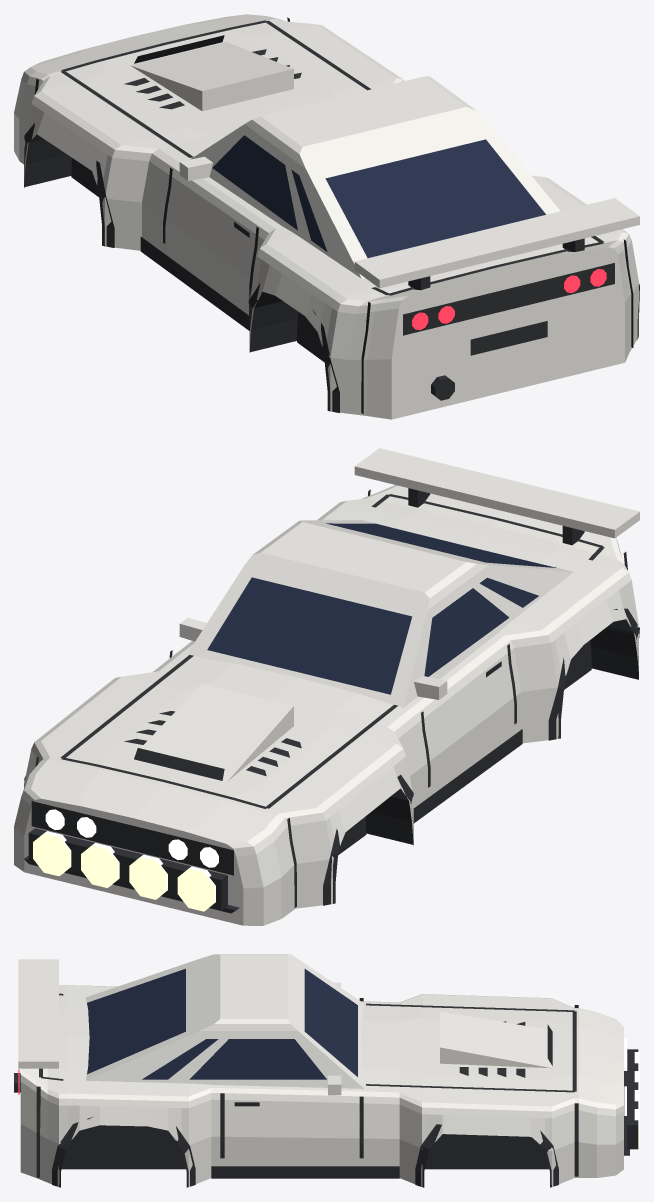
The model's file is Ryu.glb.
3 views of the same model, one above another, from view 1: azimuth 30°, elevation 25°; view 2: azimuth 150°, elevation 25°; view 3: azimuth 270°, elevation 25° (orthographic). The views are drawn at different scales.
Parts seen in each view (by area): view 1: BumperRear, Hood, RearWindow, Roof, Fender_FL, Pillars, Opt_Wing_Rally_WingBlade, Door_FL, Fender_RL, Opt_Hood_Scoop_HoodScoop, BumperFront, Underbody (+16 smaller); view 2: Hood, BumperFront, Windshield, Pillars, Roof, Fender_FL, Opt_Wing_Rally_WingBlade, Door_FL, Fender_RL, Opt_Hood_Scoop_HoodScoop, Cowl, Trunk (+17 smaller); view 3: Hood, Fender_FR, Door_FR, Pillars, Fender_RR, WheelWell, Roof, BumperFront, RearWindow, Opt_Hood_Scoop_HoodScoop, Cowl, Opt_Wing_Rally_WingBlade (+14 smaller).
Part boxes in pixels (left/top/right/bottom): BumperRear: left=367, top=243, right=629, bottom=419; Hood: left=41, top=19, right=396, bottom=162; RearWindow: left=325, top=139, right=545, bottom=257; Roof: left=245, top=76, right=488, bottom=168; Fender_FL: left=24, top=74, right=179, bottom=253; Pillars: left=190, top=124, right=560, bottom=278; Opt_Wing_Rally_WingBlade: left=354, top=198, right=639, bottom=288; Door_FL: left=164, top=165, right=269, bottom=315; Fender_RL: left=250, top=225, right=383, bottom=415; Opt_Hood_Scoop_HoodScoop: left=130, top=42, right=293, bottom=111; BumperFront: left=14, top=14, right=280, bottom=164; Underbody: left=24, top=134, right=298, bottom=352; Hood: left=41, top=653, right=408, bottom=815; BumperFront: left=14, top=760, right=292, bottom=925; Windshield: left=207, top=577, right=412, bottom=694; Pillars: left=187, top=520, right=573, bottom=707; Roof: left=245, top=520, right=488, bottom=609; Fender_FL: left=276, top=709, right=426, bottom=910; Opt_Wing_Rally_WingBlade: left=354, top=448, right=639, bottom=538; Door_FL: left=410, top=640, right=515, bottom=798; Fender_RL: left=499, top=547, right=638, bottom=743; Opt_Hood_Scoop_HoodScoop: left=130, top=684, right=293, bottom=782; Cowl: left=181, top=505, right=615, bottom=709; Trunk: left=342, top=491, right=621, bottom=571; Hood: left=363, top=994, right=578, bottom=1106; Fender_FR: left=363, top=1091, right=578, bottom=1186; Door_FR: left=220, top=1088, right=363, bottom=1166; Pillars: left=86, top=959, right=364, bottom=1088; Fender_RR: left=36, top=1081, right=220, bottom=1186; WheelWell: left=61, top=1125, right=549, bottom=1169; Roof: left=199, top=954, right=297, bottom=1030; BumperFront: left=579, top=1008, right=623, bottom=1177; RearWindow: left=87, top=968, right=185, bottom=1074; Opt_Hood_Scoop_HoodScoop: left=440, top=1011, right=551, bottom=1068; Cowl: left=67, top=985, right=363, bottom=1096; Opt_Wing_Rally_WingBlade: left=18, top=959, right=58, bottom=1068.
Bounding box in the file's own units: 6.46 × 3.44 × 13.96.
